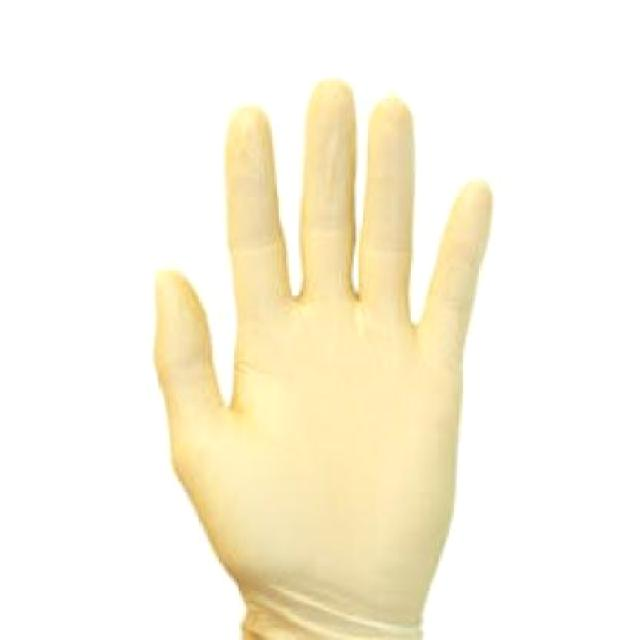glove: (151, 73, 497, 638)
